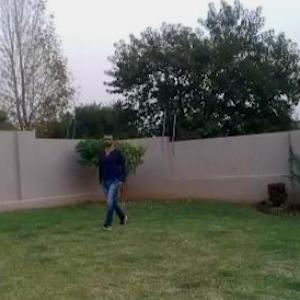follow: (97, 128, 130, 236)
